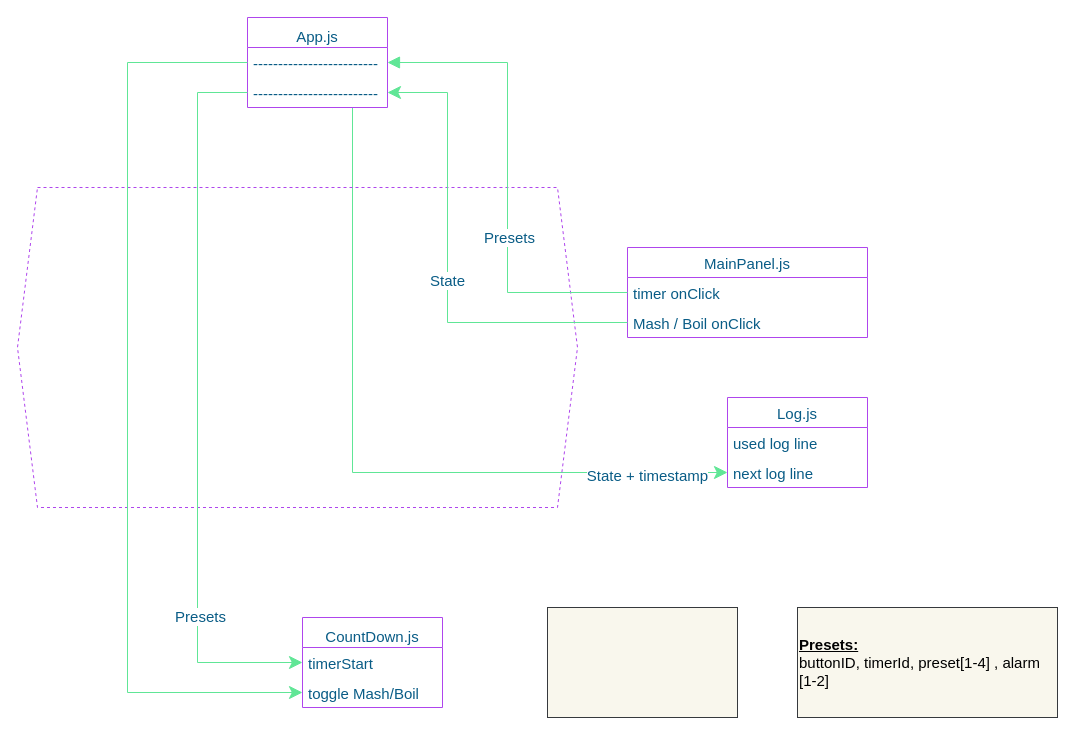
Some shapes in this 1075 by 735 pixel diagram are drawn without their labels. The centre of each missing label's shape, as x and y in pixels:
"Props": point (297, 347)
State = process state of: prepare, mash, boil [ , cool, done ]: point (642, 662)
